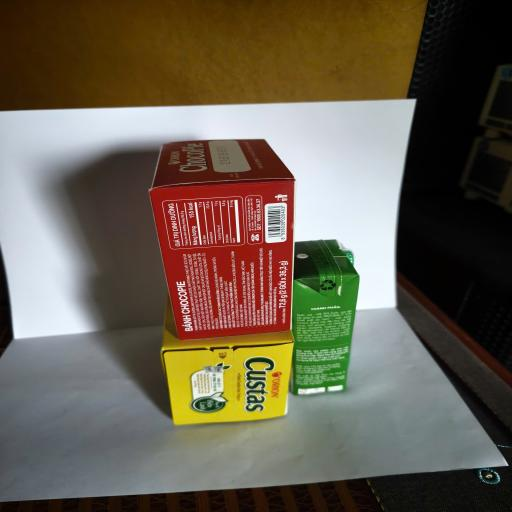chocopie: (149, 139, 295, 341)
custas: (160, 316, 296, 426)
milo: (290, 239, 360, 396)
